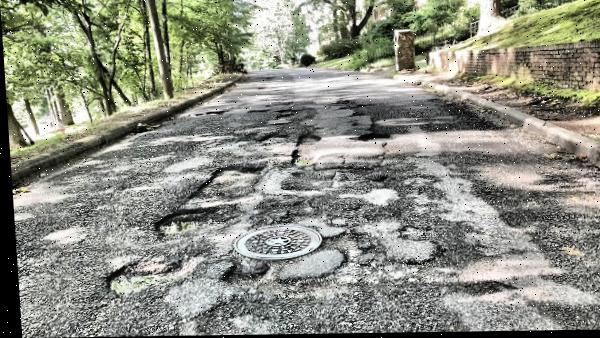pothole: (228, 224, 319, 263), (186, 166, 267, 205), (149, 209, 213, 241), (214, 256, 262, 298), (101, 259, 143, 303), (287, 132, 322, 168), (348, 129, 390, 145), (258, 132, 284, 150), (273, 108, 294, 122), (191, 109, 222, 117), (246, 108, 267, 116)
